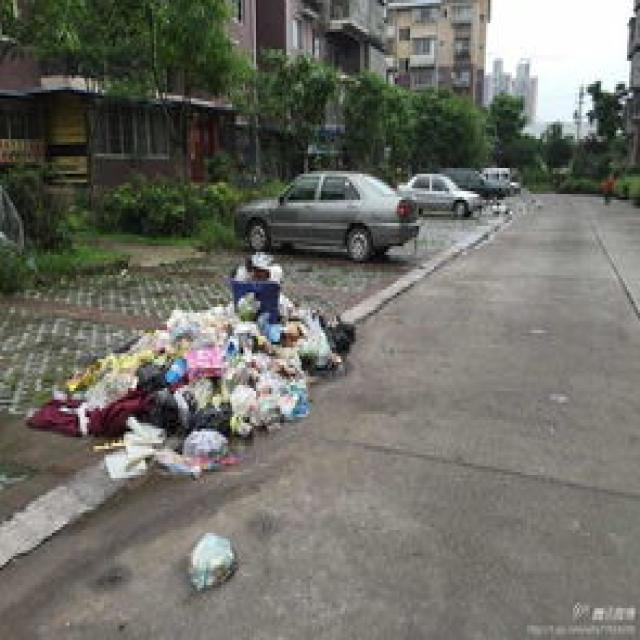garbage: (24, 249, 351, 481), (187, 527, 232, 585)
